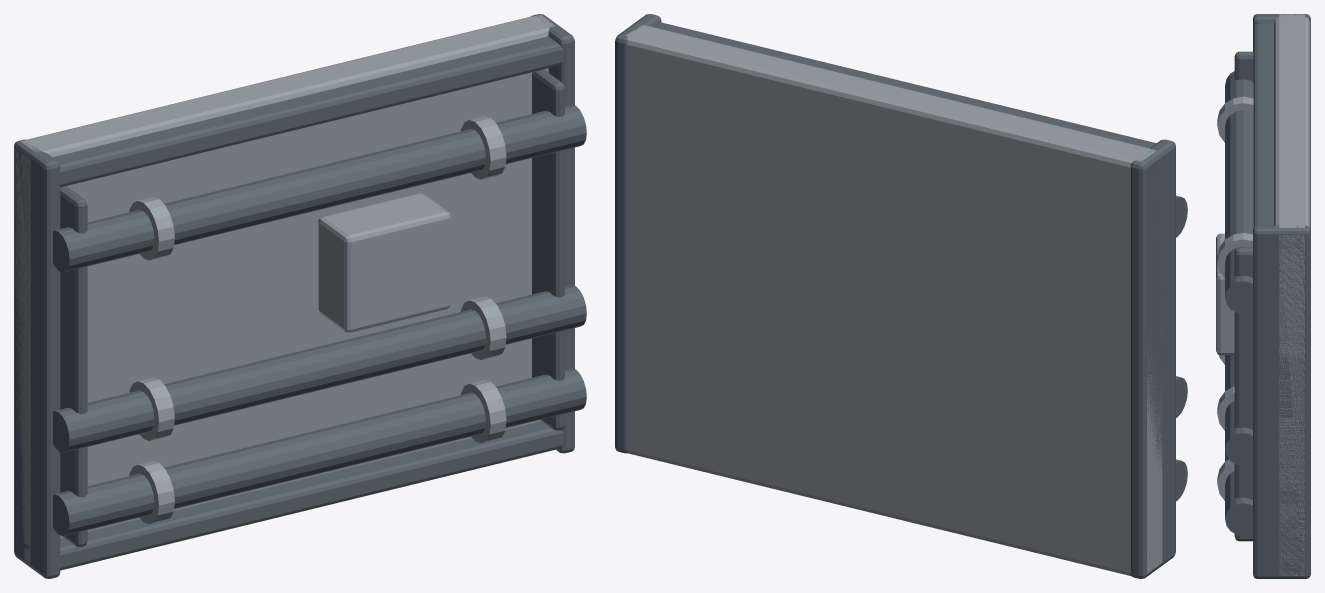
Rendered from 4_Wall.fbx.
The picture shows the model from 3 angles, left to right: view 1: azimuth 30°, elevation 25°; view 2: azimuth 150°, elevation 25°; view 3: azimuth 270°, elevation 25°; orthographic projection. The views are drawn at different scales.
Visible parts, largest first — view 1: Body; view 2: Body; view 3: Body.
Part boxes in pixels (box(x1,y1,x2,y2)): Body: box(14, 14, 586, 578); Body: box(615, 14, 1187, 578); Body: box(1216, 14, 1310, 578).
Bounding box in the file's own units: 4 × 3 × 0.735.
